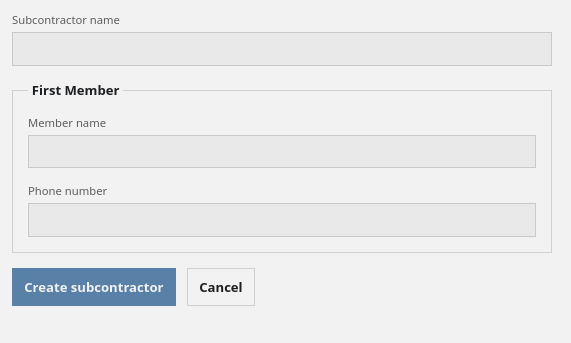
associates and focuses a returned phone conflict
This screenshot has width=571, height=343.
Type "Beacon" into the field labelled "Subcontractor name".
click(282, 49); type("Beacon")  # box [12,32,552,66]
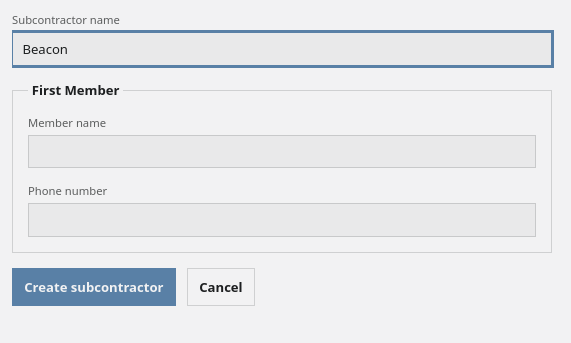
Type "Mei" into the field labelled "Member name".
click(282, 151); type("Mei")  # box [28,134,536,168]
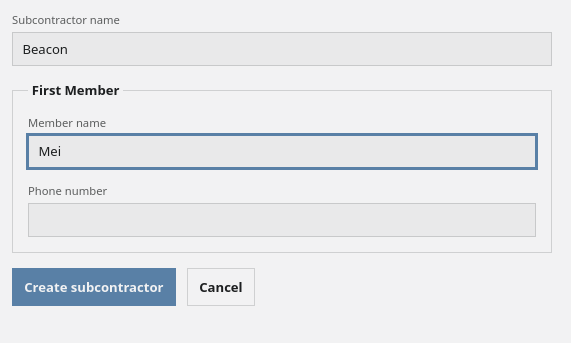
Type "9123 4567" into the field labelled "Phone number".
click(282, 220); type("9123 4567")  # box [28,203,536,237]
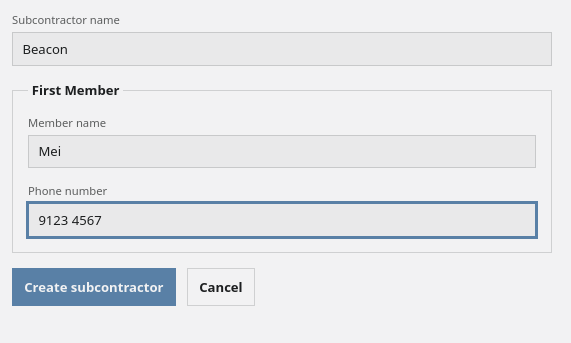
Click the button "Create subcontractor".
click(94, 287)  # box [12,268,176,306]
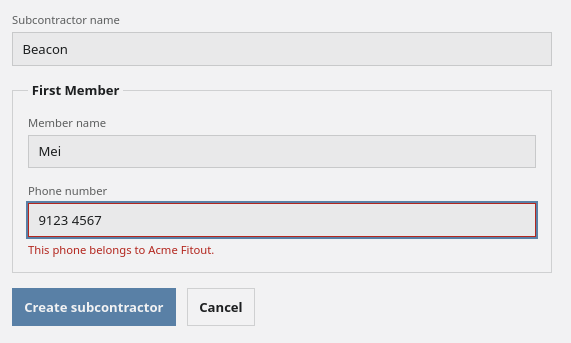
Expected: the text "This phone belongs to Acme Fitout." is shown, [28,242,214,257]
